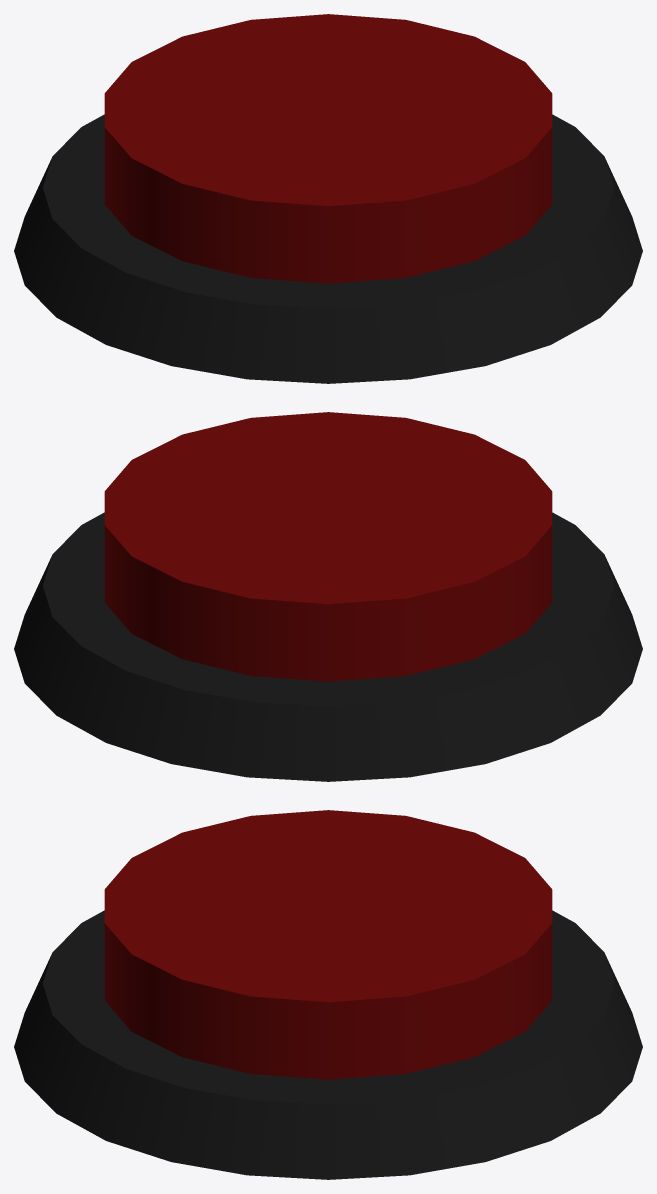
The model's file is button.fbx.
3 renders of one model, top to bottom at view 1: azimuth 30°, elevation 25°; view 2: azimuth 150°, elevation 25°; view 3: azimuth 270°, elevation 25°, orthographic.
Parts seen in each view (by area): view 1: object 1, Cone001; view 2: object 1, Cone001; view 3: object 1, Cone001.
Boxes of the visible parts, x1,y1,x2,y2 form: object 1: [104, 14, 552, 283]; Cone001: [14, 114, 642, 383]; object 1: [104, 412, 552, 681]; Cone001: [14, 512, 642, 781]; object 1: [104, 810, 552, 1079]; Cone001: [14, 910, 642, 1179].
Bounding box in the file's own units: 92.57 × 22.87 × 92.57.
